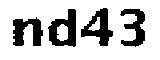3: (120, 6, 147, 48)
4: (78, 6, 115, 49)
d: (48, 5, 79, 54)
n: (9, 17, 41, 52)
